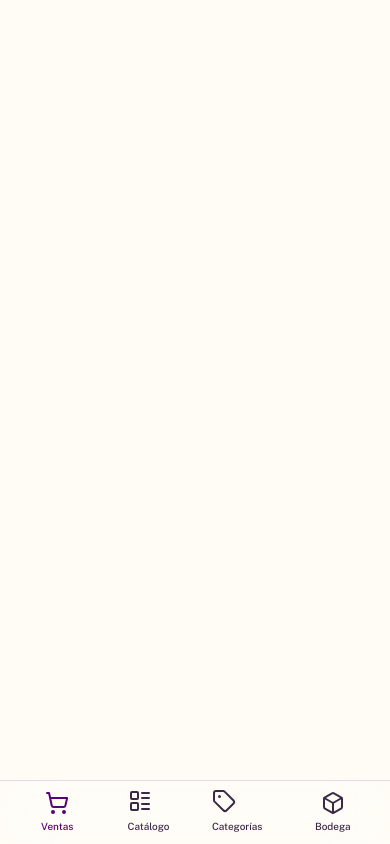
Test: R7 — menu Bodega para vendedor incluye "Alertas de stock" › BottomNav (mobile) › item visible al abrir sheet Bodega — hoy solo admin/bodeguero
Click the button "Bodega" at (333, 812), box [305,781,361,843]
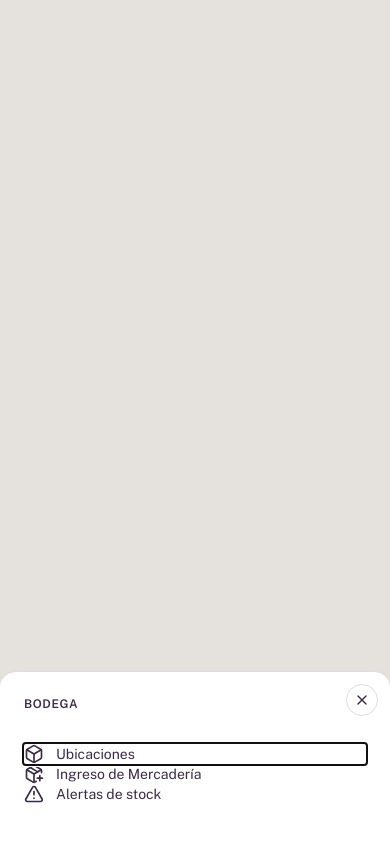
Check: the text "Alertas de stock" is shown, box [24,784,161,804]
